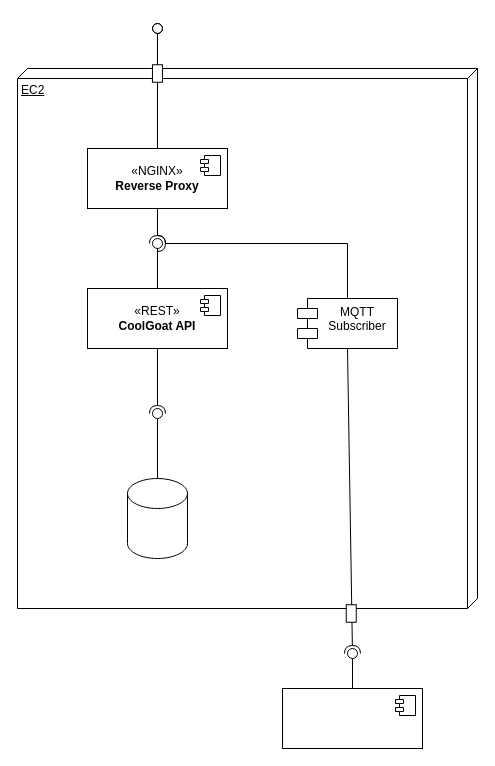
Some shapes in this 495 by 766 pixel diagram are drawn without their labels. Each missing label, with the centre of its shape:
"CoolGoat DB" belongs at (157,518).
"«MQTT» CoolGoat Broker" belongs at (352,718).
